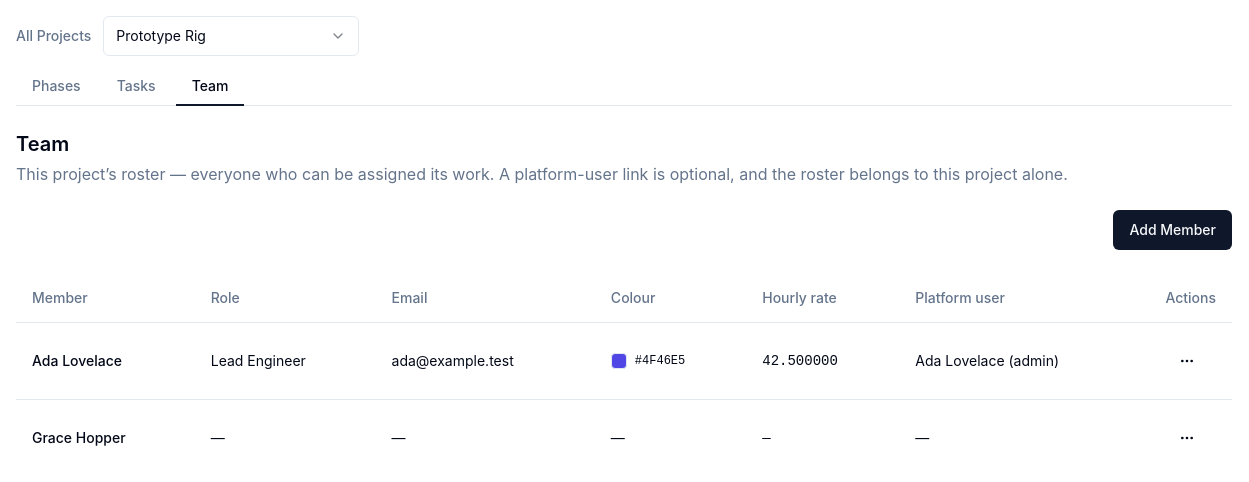
it: Team screen › offers no reactivate action and no way to list removed members
Expected: the text "Ada Lovelace" is shown, [16,322,195,399]
Click the button named "Member actions for Ada Lovelace" at (1187, 360), box [1165,338,1209,382]
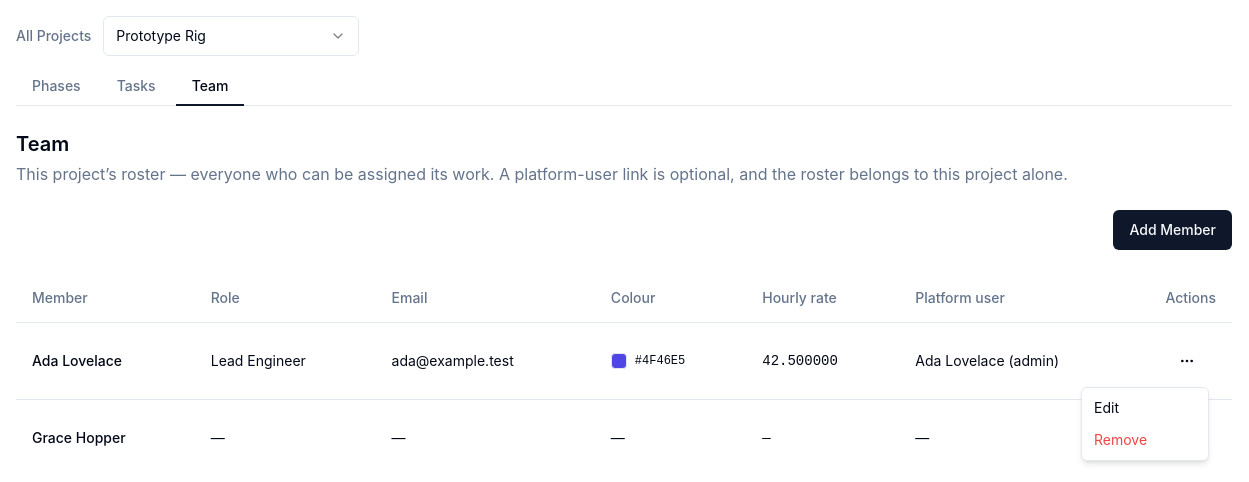
Now the menu items read "Edit", "Remove", in this order, box [1094,399,1119,416]; [1094,431,1147,448]
